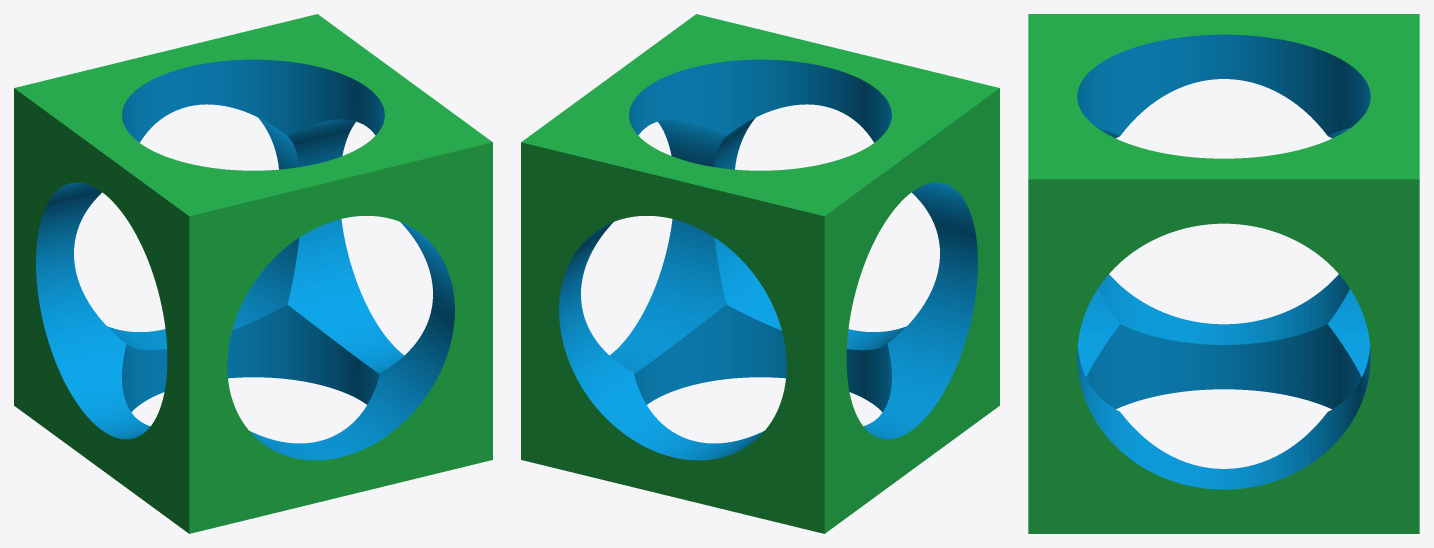
Rendered from Window.fbx.
3 views of the same model, side by side, from view 1: azimuth 30°, elevation 25°; view 2: azimuth 150°, elevation 25°; view 3: azimuth 270°, elevation 25° (orthographic). The views are drawn at different scales.
Parts seen in each view (by area): view 1: node_id7 (×2); view 2: node_id7 (×2); view 3: node_id7 (×2).
Boxes of the visible parts, box(x1,y1,x2,y2) form: node_id7 (×2): box(14, 14, 492, 533); node_id7 (×2): box(521, 14, 999, 533); node_id7 (×2): box(1028, 14, 1419, 533).
Size of the model in its own units: 0.9945 by 0.9945 by 0.9945.
